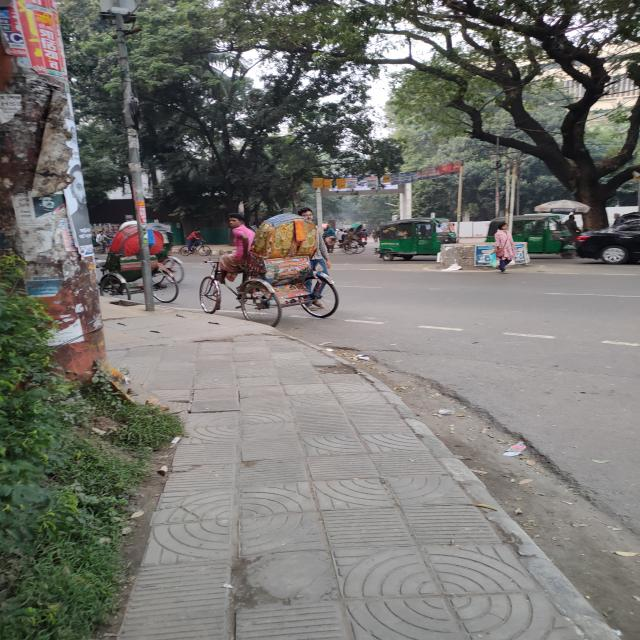rikshaw: (193, 199, 372, 368), (91, 203, 191, 309)
